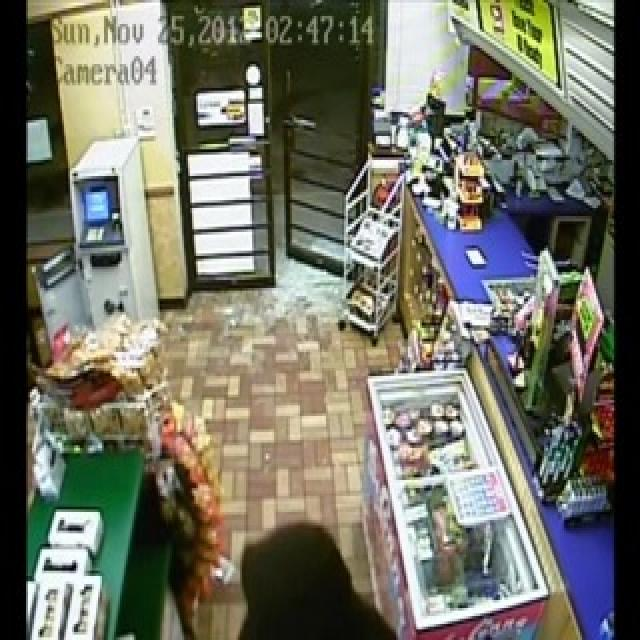thief: (224, 519, 358, 640)
